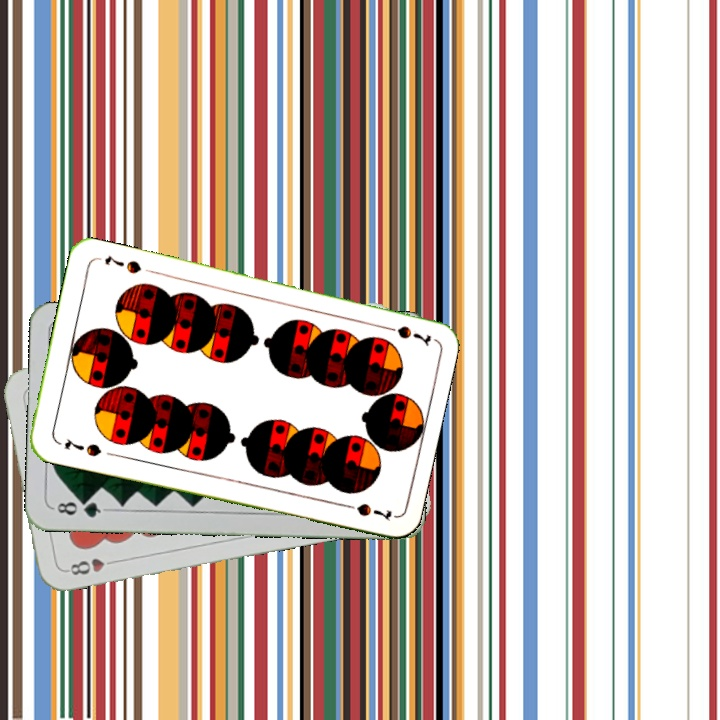G8: (50, 496, 109, 520)
H8: (62, 554, 121, 578)
S7: (376, 321, 434, 348), (60, 434, 104, 459)
